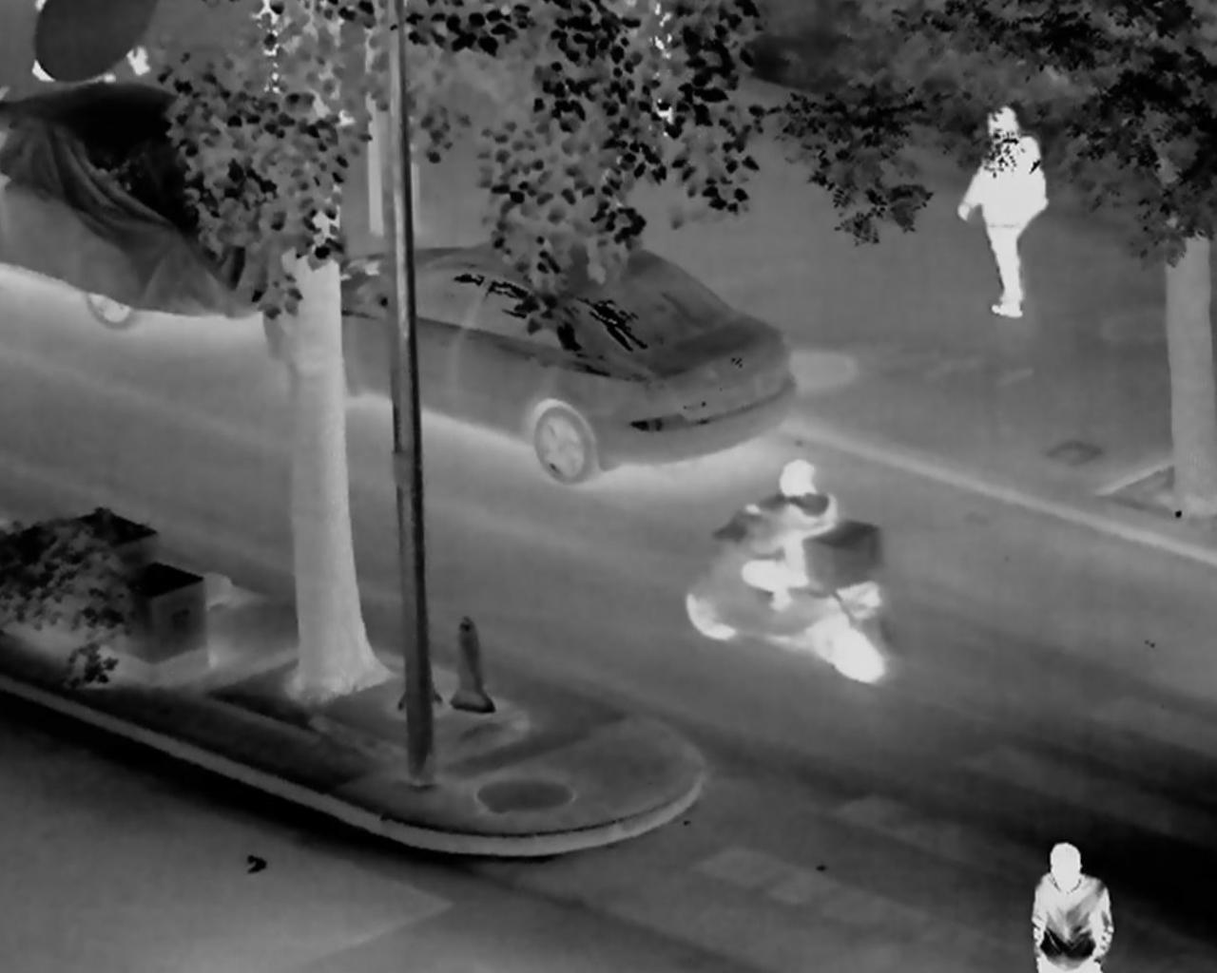person: (958, 106, 1046, 317), (738, 462, 840, 613), (1030, 840, 1113, 972)
